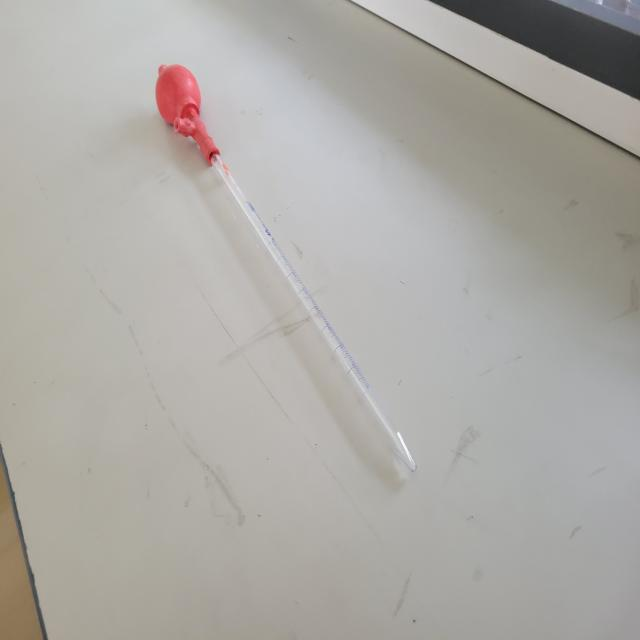Volumetric_Pipet: (138, 30, 470, 517)
